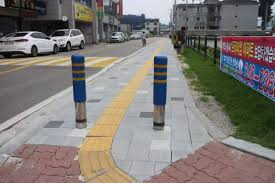guide_blocks: (81, 137, 136, 183), (87, 93, 134, 137), (123, 72, 143, 93), (141, 57, 152, 72)
